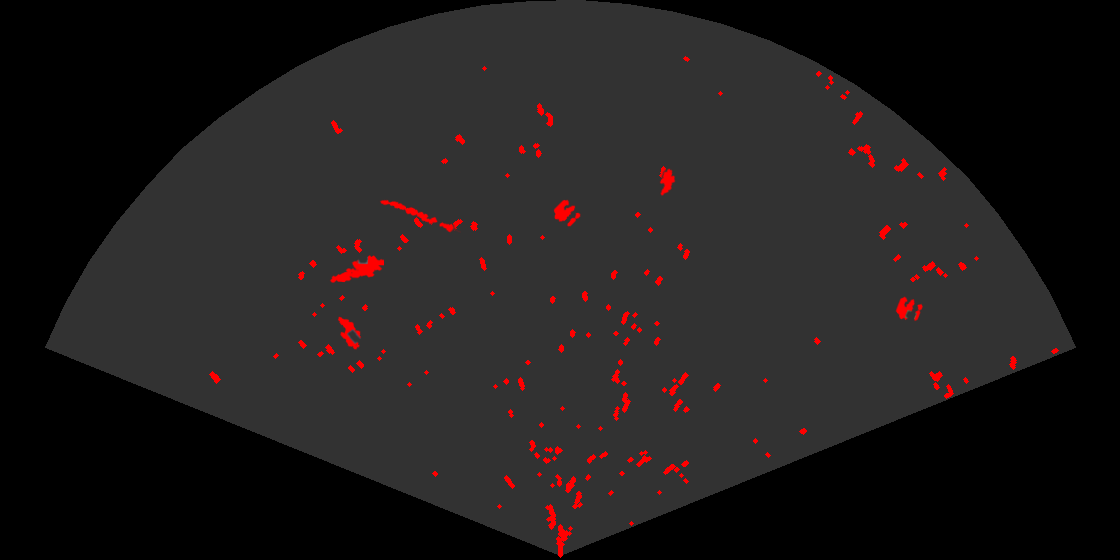AUV: (336, 315, 363, 351), (658, 167, 677, 197)
ball: (552, 198, 582, 228), (894, 295, 924, 323)
chain: (378, 198, 461, 234)
frogman: (329, 253, 384, 284)
